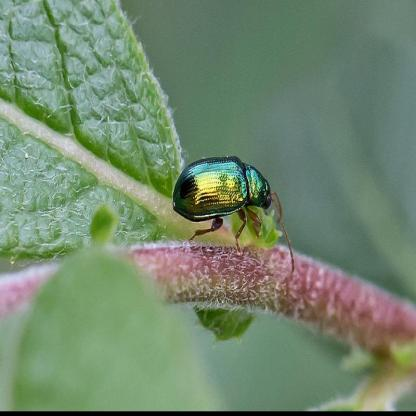beetle: (169, 152, 295, 252)
